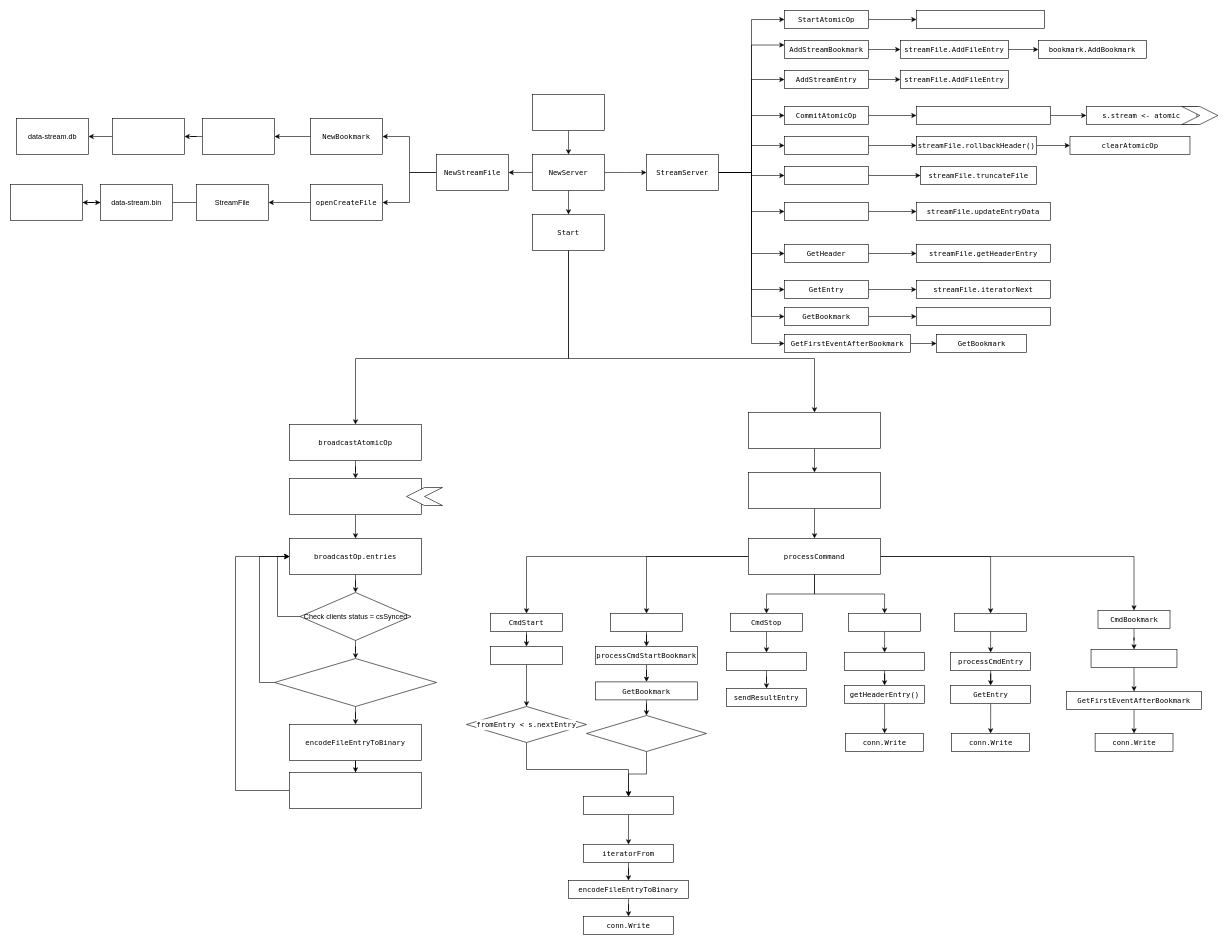
Image size: 1229x945. Some labels were removed from this diagram. Here are the shapes that lost their labels. From the top down, the box of each, then its label:
(916, 10, 1044, 28): atomicOp.status = aoStarted
(532, 94, 604, 130): runServer
(916, 106, 1050, 124): streamFile.writeHeaderEntry()
(112, 118, 184, 154): Bookmark DB LevelDb
(202, 118, 274, 154): StreamBookmark
(784, 136, 868, 154): RollbackAtomicOp
(784, 166, 868, 184): TruncateFile
(10, 184, 82, 220): fileName
(784, 202, 868, 220): UpdateEntryData
(916, 307, 1050, 326): bookmark.GetBookmark
(748, 412, 880, 448): waitConnections
(289, 478, 422, 514): s.stream
(748, 472, 880, 508): go handleConnection
(610, 613, 682, 632): CmdStartBookmark
(848, 613, 921, 632): CmdHeader
(954, 613, 1027, 632): CmdEntry
(490, 646, 562, 664): processCmdStart
(726, 652, 807, 670): processCmdStop
(844, 652, 925, 670): processCmdHeader
(1090, 649, 1177, 668): processCmdBookmark
(274, 658, 436, 706): entry.Number >= cli.fromEntry
(586, 715, 706, 752): entryNum < s.nextEntry
(289, 772, 422, 808): cli.conn.Write(binaryEntry)
(583, 796, 674, 814): streamingFromEntry
